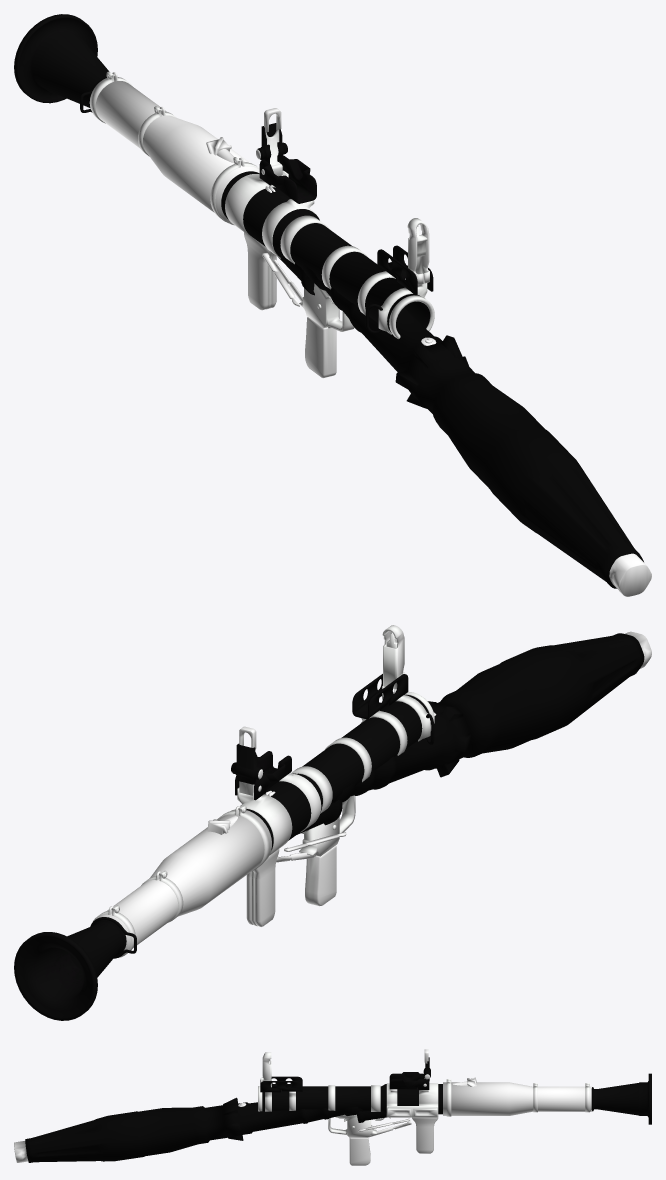
Rendered from Weapons_RPG7_LOD0.glb.
The picture shows the model from 3 angles, top to bottom: view 1: azimuth 30°, elevation 25°; view 2: azimuth 150°, elevation 25°; view 3: azimuth 270°, elevation 25°; orthographic projection. The views are drawn at different scales.
Visible parts, largest first — view 1: Hoodie; view 2: Hoodie; view 3: Hoodie.
Boxes of the visible parts, <box> form: Hoodie: <box>14,14,651,596</box>; Hoodie: <box>14,625,651,1020</box>; Hoodie: <box>14,1049,651,1165</box>.
Size of the model in its own units: 0.1105 by 0.2788 by 1.38.
Materials: 1 (1 with a texture image).
